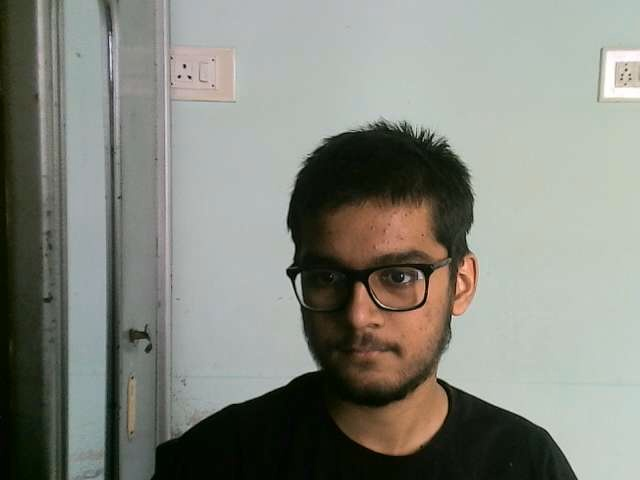face: (293, 198, 452, 407)
